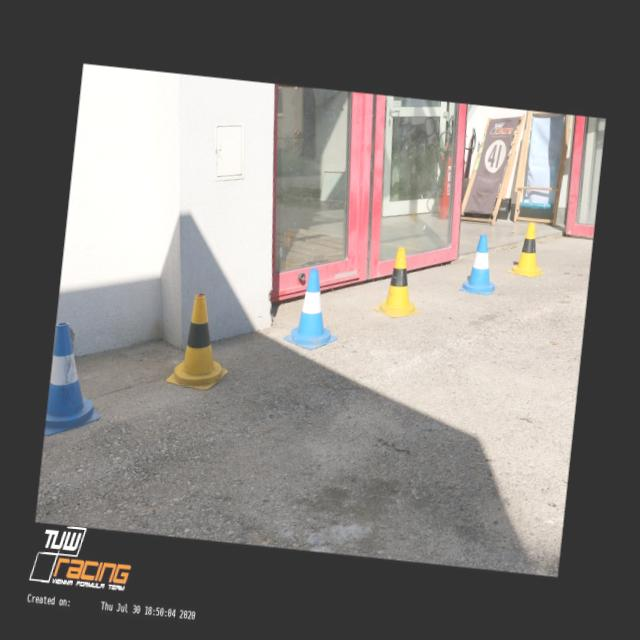blue_cone: (44, 322, 109, 440), (283, 266, 343, 351), (458, 232, 501, 296)
yellow_cone: (166, 290, 235, 392), (372, 244, 426, 320), (507, 220, 550, 279)
